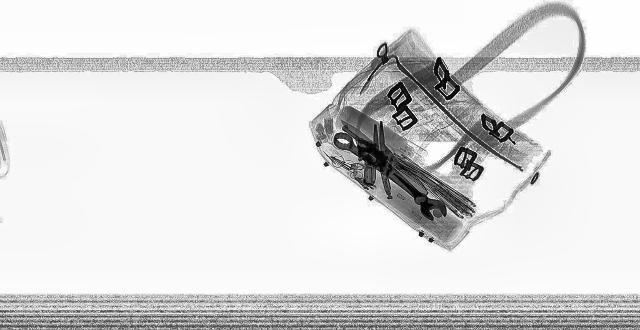Knife: (334, 123, 434, 197)
Wrench: (314, 130, 460, 221)
